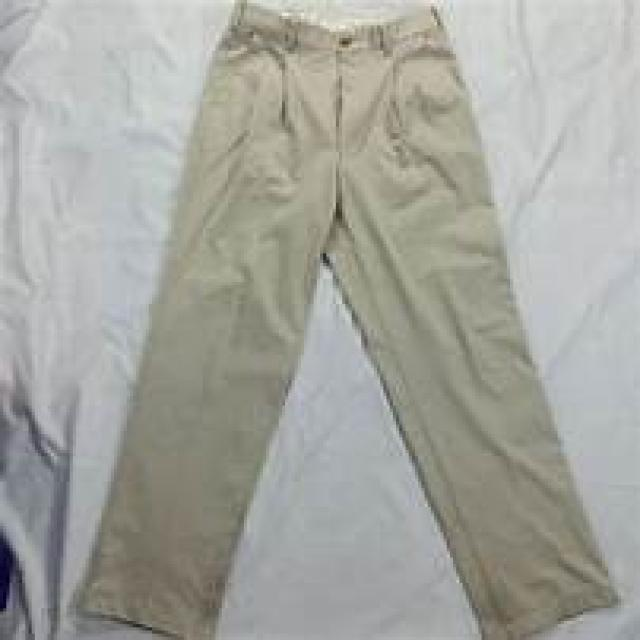long-pants: (76, 0, 620, 640)
